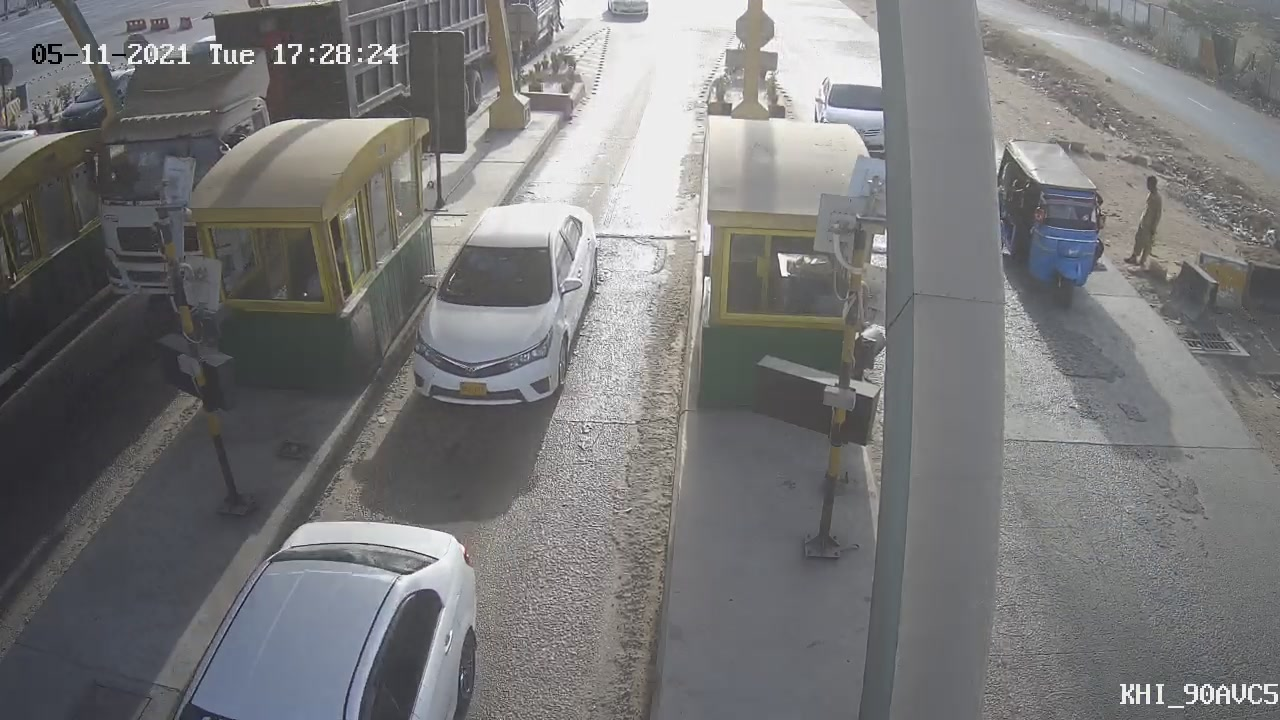F1: (383, 182, 614, 427)
